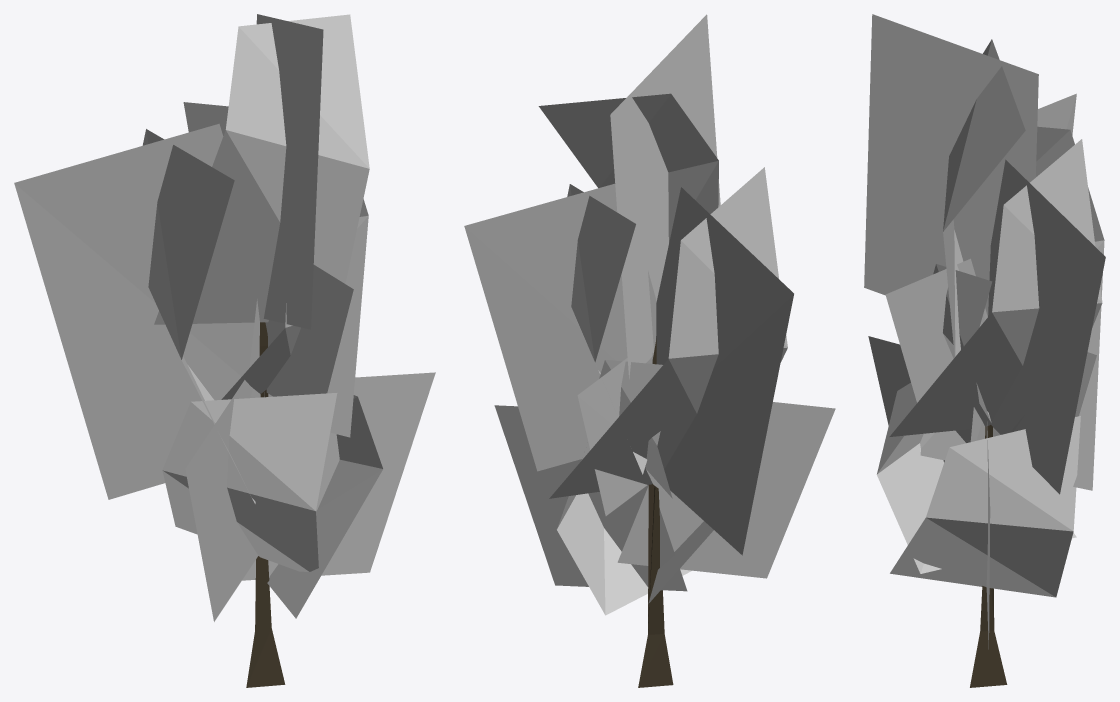
The model's file is NW_NATURE_SMALLTREE_103P.OBJ.
The picture shows the model from 3 angles, left to right: view 1: azimuth 30°, elevation 25°; view 2: azimuth 150°, elevation 25°; view 3: azimuth 270°, elevation 25°; orthographic projection. The views are drawn at different scales.
Parts seen in each view (by area): view 1: NW_NATURE_SMALLTREE_103P; view 2: NW_NATURE_SMALLTREE_103P; view 3: NW_NATURE_SMALLTREE_103P.
Part boxes in pixels (bbox=[...]): NW_NATURE_SMALLTREE_103P: bbox=[14, 14, 435, 687]; NW_NATURE_SMALLTREE_103P: bbox=[464, 14, 835, 687]; NW_NATURE_SMALLTREE_103P: bbox=[864, 14, 1105, 687].
Size of the model in its own units: 6.81 by 12 by 3.94.
